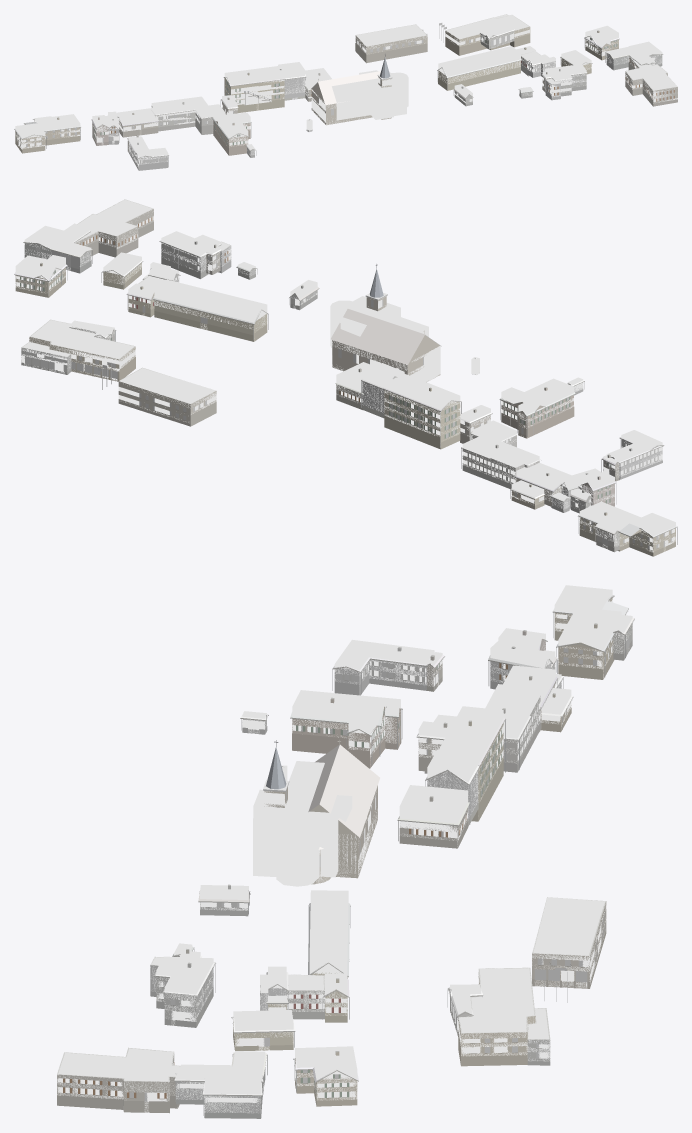
3 renders of one model, top to bottom at view 1: azimuth 30°, elevation 25°; view 2: azimuth 150°, elevation 25°; view 3: azimuth 270°, elevation 25°, orthographic. The views are drawn at different scales.
Parts seen in each view (by area): view 1: col, bld; view 2: col, bld; view 3: col, bld.
Part boxes in pixels (box(x1,y1,x2,y2)): col: box(15, 14, 677, 167); bld: box(14, 14, 677, 170); col: box(15, 199, 675, 552); bld: box(14, 199, 677, 556); col: box(57, 585, 632, 1112); bld: box(57, 595, 634, 1118).
Size of the model in its own units: 269 by 38.15 by 122.
